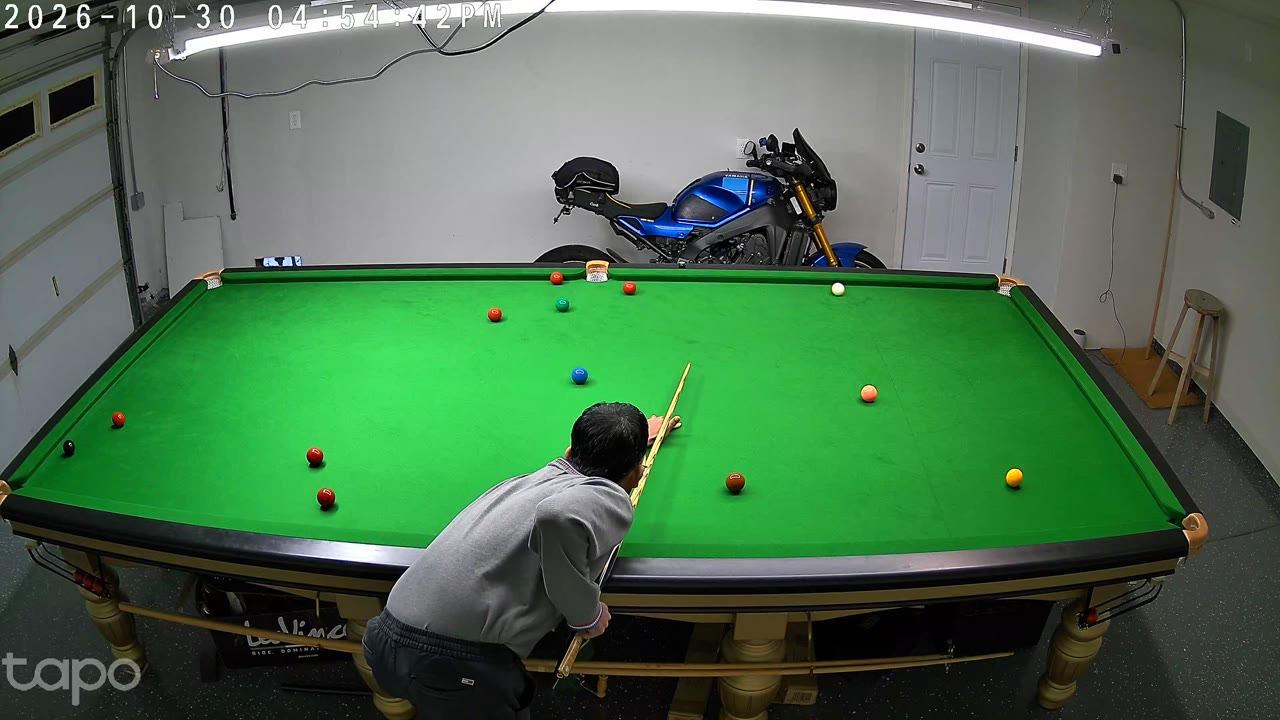black: (62, 438, 76, 459)
blue: (572, 365, 588, 388)
brown: (726, 471, 744, 496)
green: (556, 297, 569, 314)
pink: (860, 384, 876, 404)
red: (317, 486, 335, 512), (307, 445, 323, 469), (112, 410, 125, 430), (488, 306, 501, 324), (623, 280, 636, 297), (551, 271, 562, 288)
white: (832, 280, 844, 298)
yellow: (1006, 467, 1023, 489)
